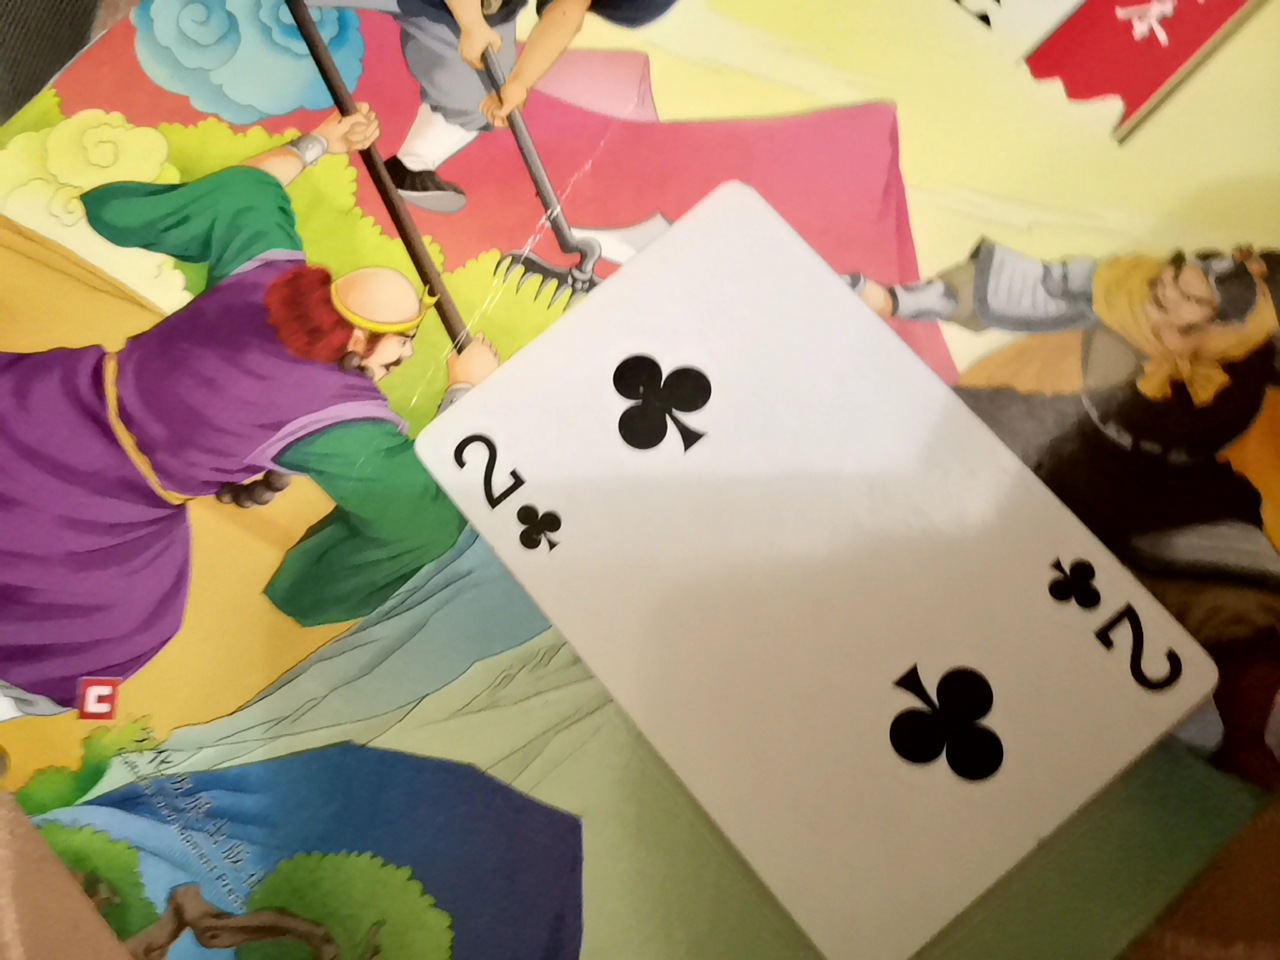mh 2: (511, 301, 1230, 950)
